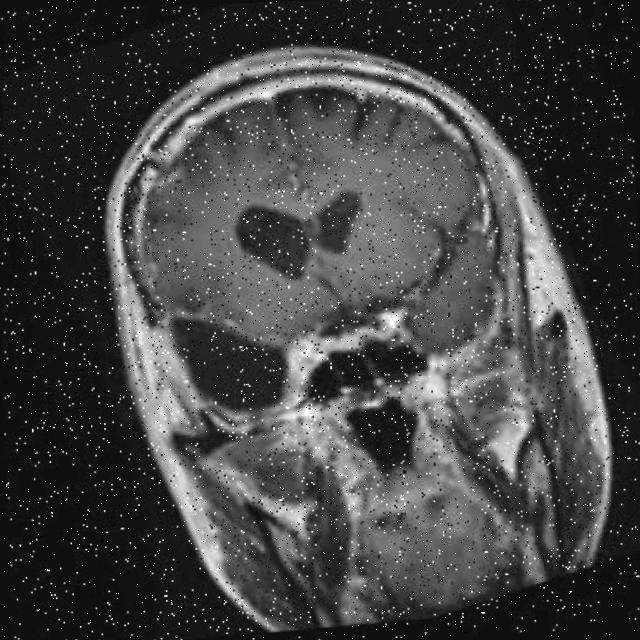CN: (115, 268, 304, 493)
